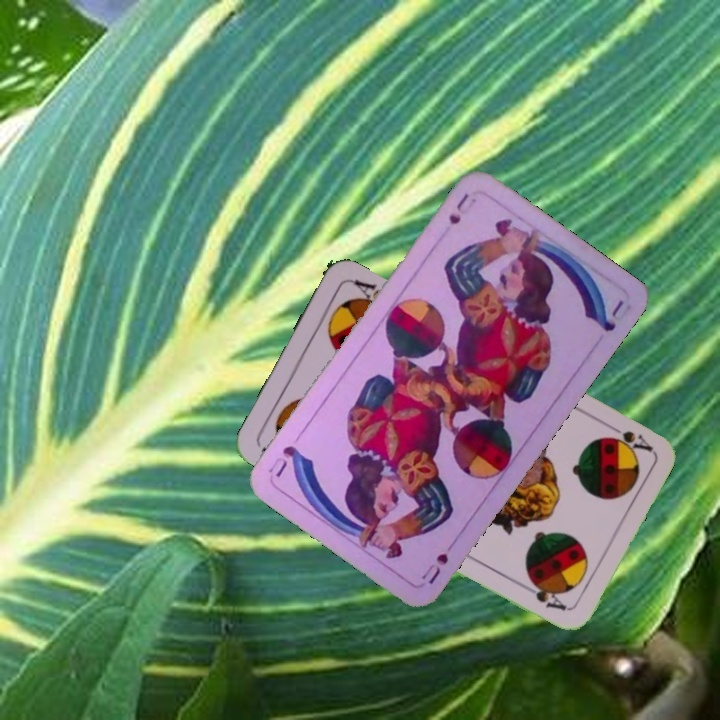SA: (599, 417, 654, 454)
SU: (417, 548, 451, 587), (444, 189, 473, 228)
